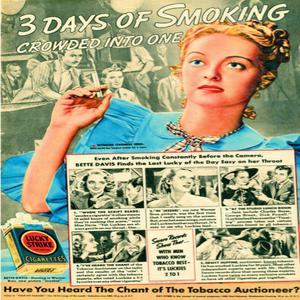cigarette: (90, 68, 110, 105)
